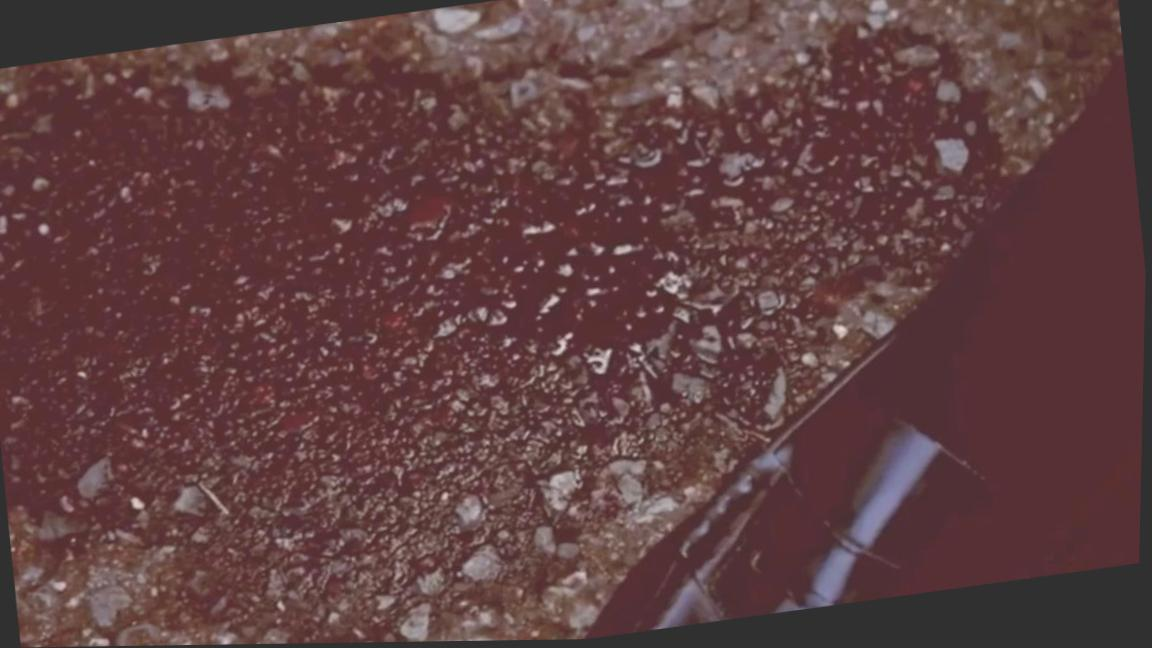Fire: (0, 30, 1005, 648)
